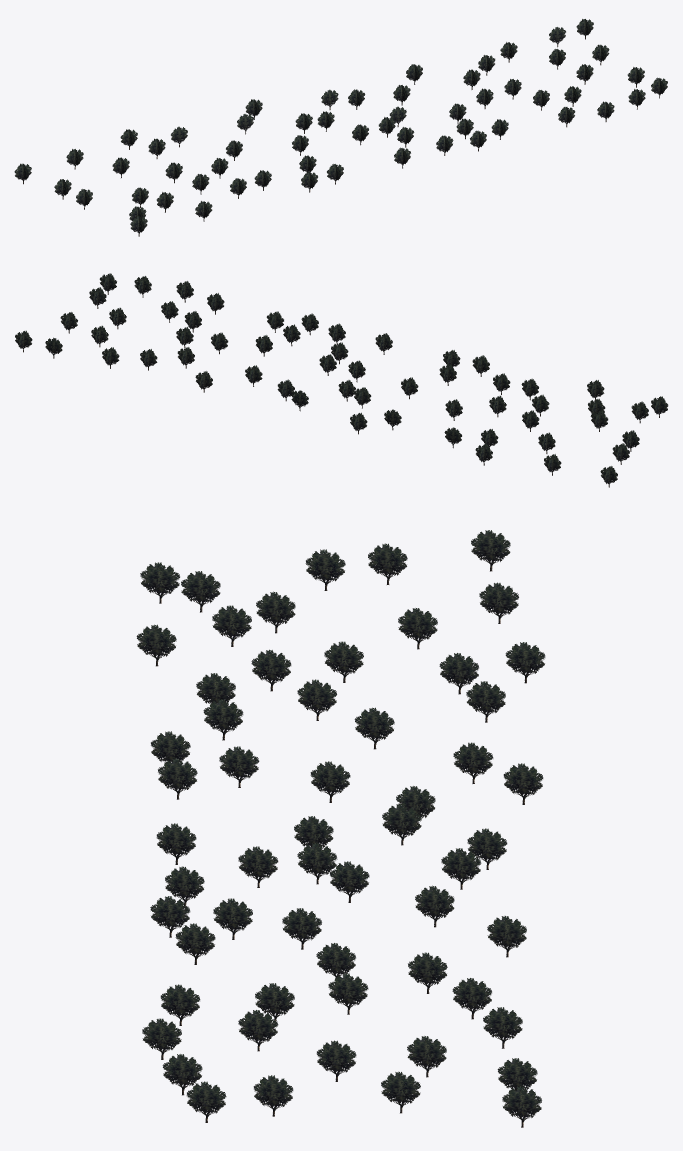
Rendered from planeTree08.FBX.
3 views of the same model, one above another, from view 1: azimuth 30°, elevation 25°; view 2: azimuth 150°, elevation 25°; view 3: azimuth 270°, elevation 25° (orthographic). The views are drawn at different scales.
Parts seen in each view (by area): view 1: planeTree08; view 2: planeTree08; view 3: planeTree08.
Part boxes in pixels (x1=…): planeTree08: x1=14, y1=19, x2=667, y2=236; planeTree08: x1=15, y1=273, x2=668, y2=487; planeTree08: x1=136, y1=530, x2=545, y2=1127.
Bounding box in the file's own units: 12818 × 441 × 3887.
